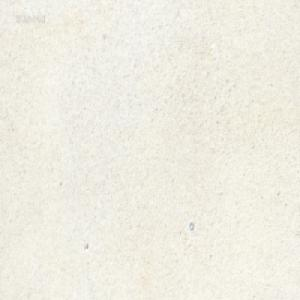Washer: (189, 220, 194, 229)
